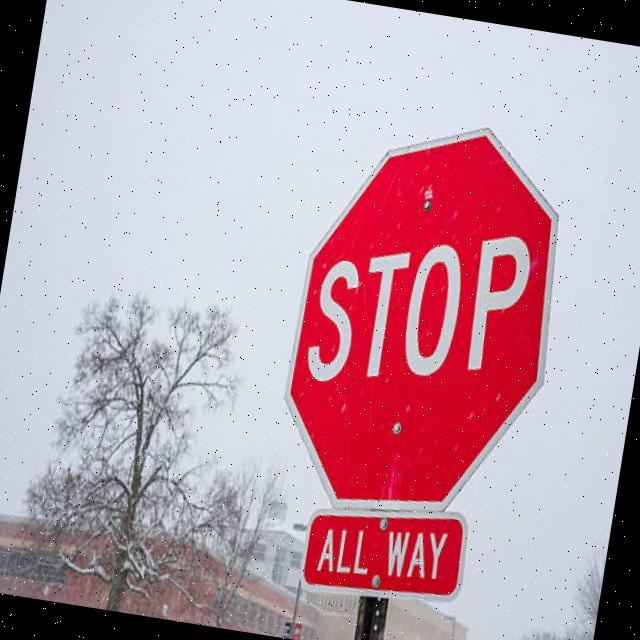stop: (269, 101, 586, 524)
